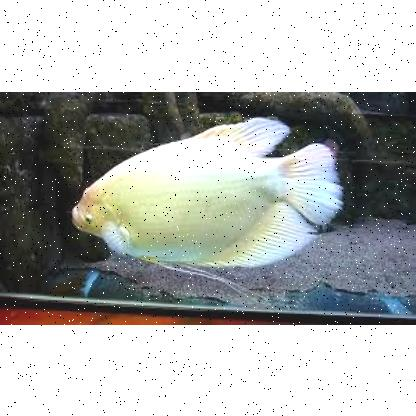gurame: (70, 118, 338, 266)
